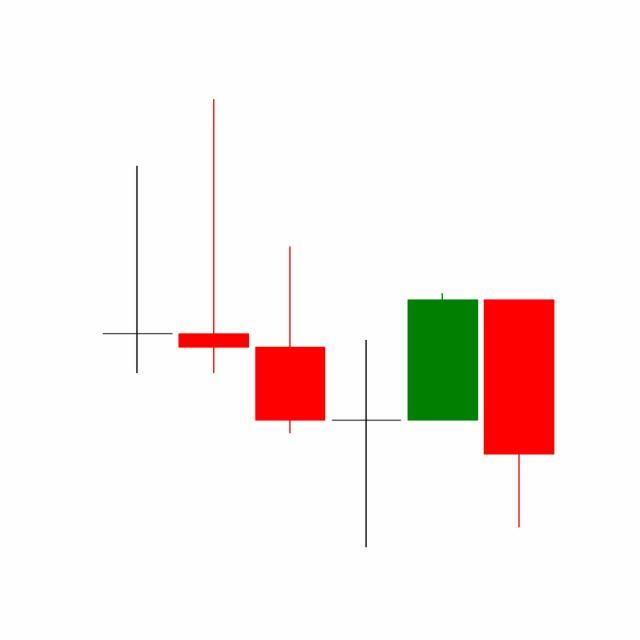Marubozu: (404, 292, 482, 423)
